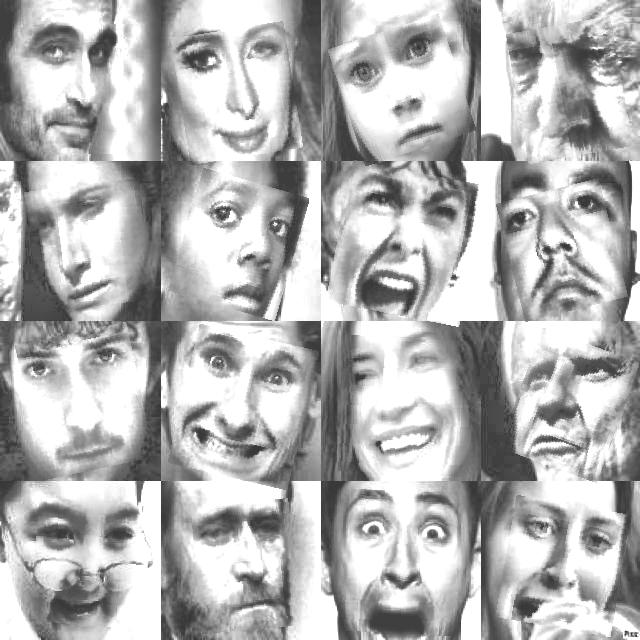angry: (332, 166, 480, 322)
fear: (335, 20, 468, 158), (500, 499, 627, 633), (346, 491, 458, 635)
happy: (175, 329, 312, 484), (339, 337, 472, 475), (175, 25, 298, 161), (31, 500, 149, 628), (36, 22, 124, 154)
neutral: (22, 327, 148, 475), (176, 175, 302, 315), (509, 335, 631, 477), (512, 20, 628, 160), (502, 184, 622, 316), (193, 500, 297, 632)
sad: (28, 182, 150, 310)
